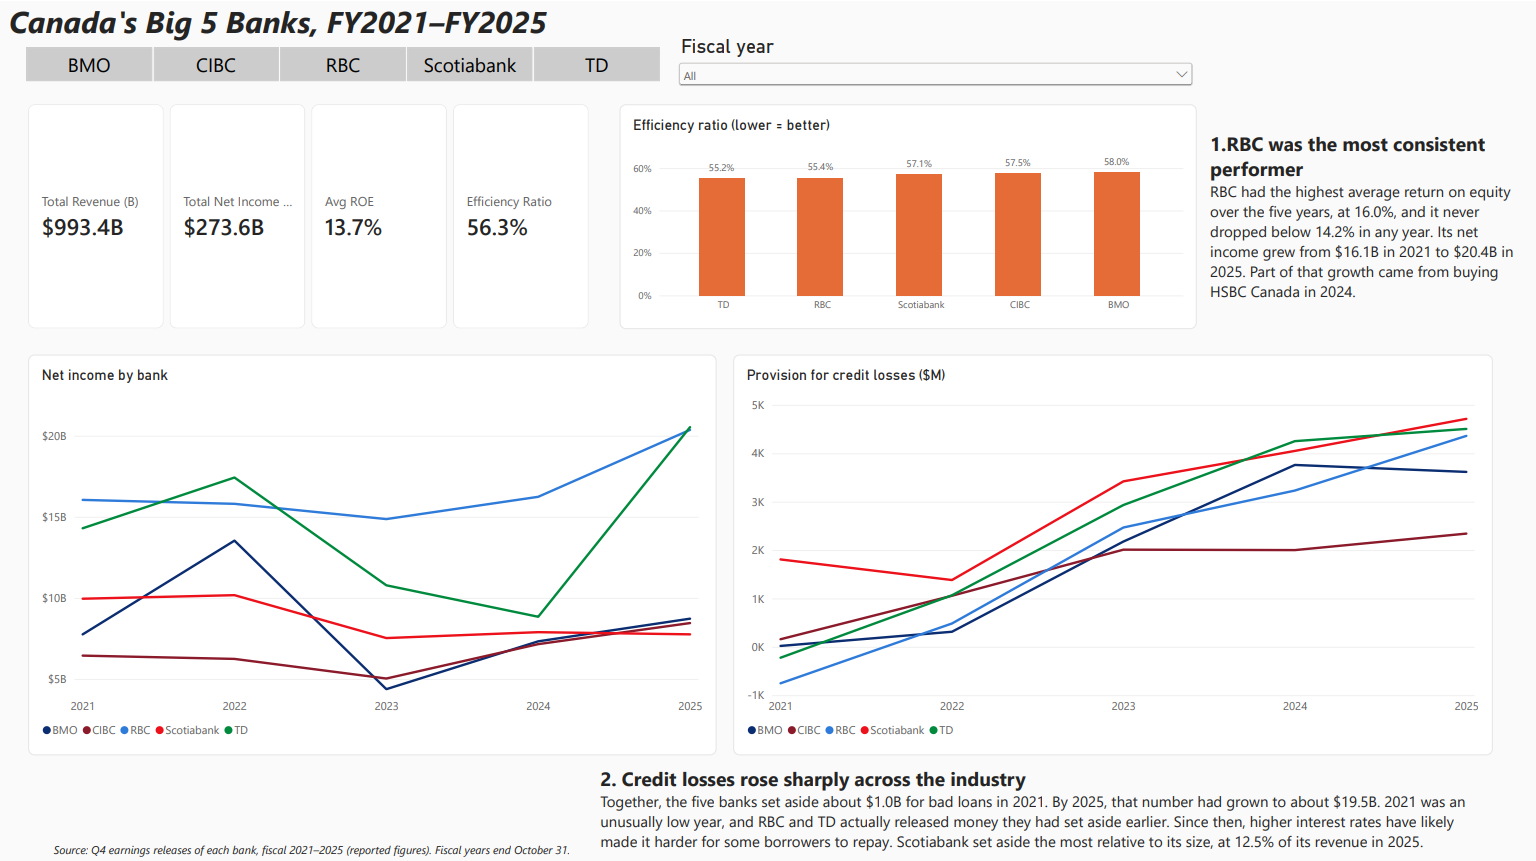

What the dashboard file says about the page in this screenshot:
{"tool":"powerbi","page":{"name":"Overview","canvas":[1920,1080],"ordinal":0},"visuals":[{"type":"textbox","box":[10.6,0,905.8,69.2],"z":0},{"type":"cardVisual","fields":{"Data":["BankData.Revenue (B)","BankData.Net Income (B)","BankData.Avg ROE","BankData.Efficiency Ratio"]},"box":[34.6,129,700,280],"z":1000},{"type":"lineChart","title":"Net income by bank","fields":{"Category":["BankData.FiscalYear"],"Series":["BankData.Bank"],"Y":["BankData.Net Income (B)"]},"box":[34.6,441.6,860.5,501.4],"z":2000},{"type":"lineChart","title":"Provision for credit losses ($M)","fields":{"Category":["BankData.FiscalYear"],"Series":["BankData.Bank"],"Y":["BankData.Total PCL"]},"box":[916.4,441.6,948.3,501.4],"z":3000},{"type":"clusteredColumnChart","title":"Efficiency ratio (lower = better)","fields":{"Category":["BankData.Bank"],"Y":["BankData.Efficiency Ratio"]},"box":[774.1,129,720.9,280.6],"z":4000},{"type":"slicer","fields":{"Values":["BankData.Bank"]},"box":[12,55.9,831.3,43.9],"z":5000},{"type":"slicer","fields":{"Values":["BankData.FiscalYear"]},"box":[843.3,42.6,651.7,70.5],"z":6000},{"type":"textbox","box":[66.5,1052.1,776.7,27.9],"z":6001},{"type":"textbox","box":[750.1,956.3,1114.6,110.4],"z":6002},{"type":"textbox","box":[1512.3,160.9,379.1,248.7],"z":6003}]}

Visuals, with their boxes in screenshot pixels (x1, y1, x2, y2), scaled from the page's 1920x1080 canvas onto the 1536x861 screenshot:
textbox: x1=8, y1=0, x2=733, y2=55
cardVisual - BankData.Revenue (B) x BankData.Net Income (B): x1=28, y1=103, x2=588, y2=326
"Net income by bank" lineChart: x1=28, y1=352, x2=716, y2=752
"Provision for credit losses ($M)" lineChart: x1=733, y1=352, x2=1492, y2=752
"Efficiency ratio (lower = better)" clusteredColumnChart: x1=619, y1=103, x2=1196, y2=327
slicer - BankData.Bank: x1=10, y1=45, x2=675, y2=80
slicer - BankData.FiscalYear: x1=675, y1=34, x2=1196, y2=90
textbox: x1=53, y1=839, x2=675, y2=860
textbox: x1=600, y1=762, x2=1492, y2=850
textbox: x1=1210, y1=128, x2=1513, y2=327
